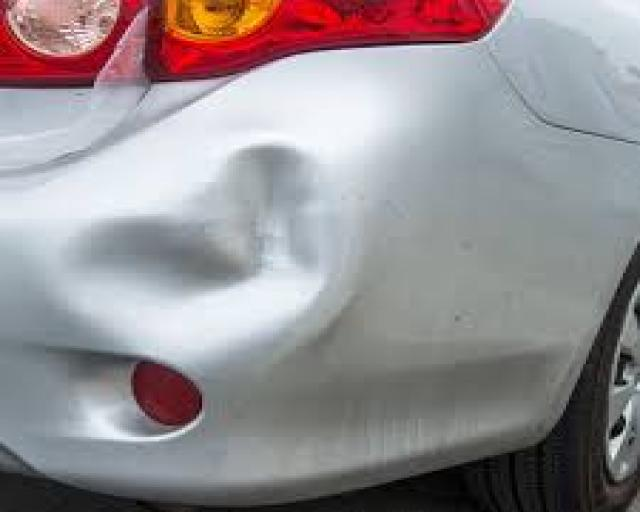dent: (44, 126, 368, 370)
